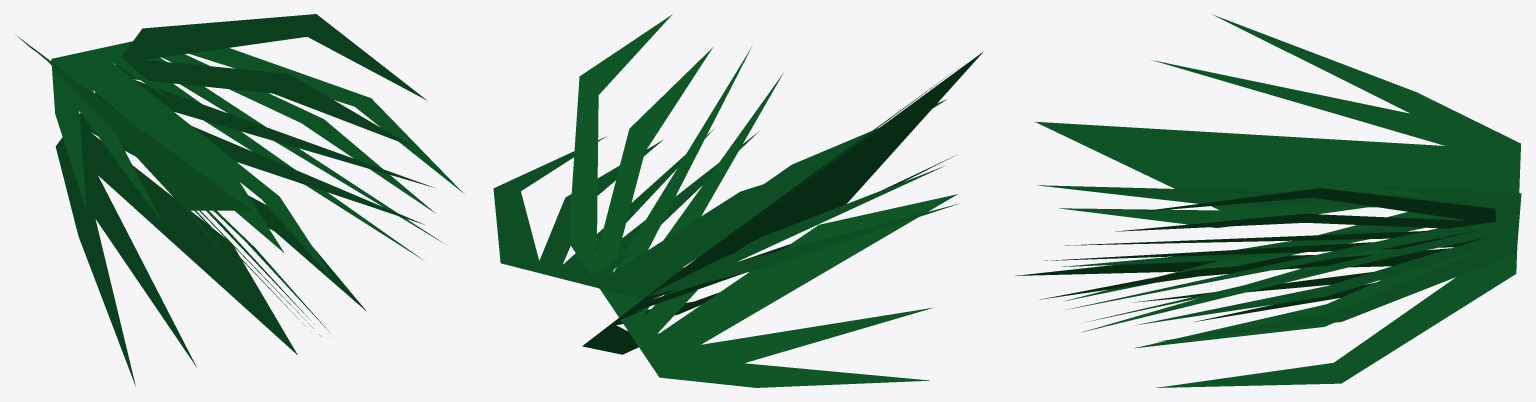
File: grass1.fbx
3 renders of one model, left to right at view 1: azimuth 30°, elevation 25°; view 2: azimuth 150°, elevation 25°; view 3: azimuth 270°, elevation 25°, orthographic. The views are drawn at different scales.
Visible parts, largest first — view 1: Plane; view 2: Plane; view 3: Plane.
Part boxes in pixels (x1,y1,x2,y2): Plane: [15, 14, 463, 386]; Plane: [493, 14, 983, 387]; Plane: [1015, 14, 1521, 387].
Size of the model in its own units: 77.5 by 63.26 by 101.
